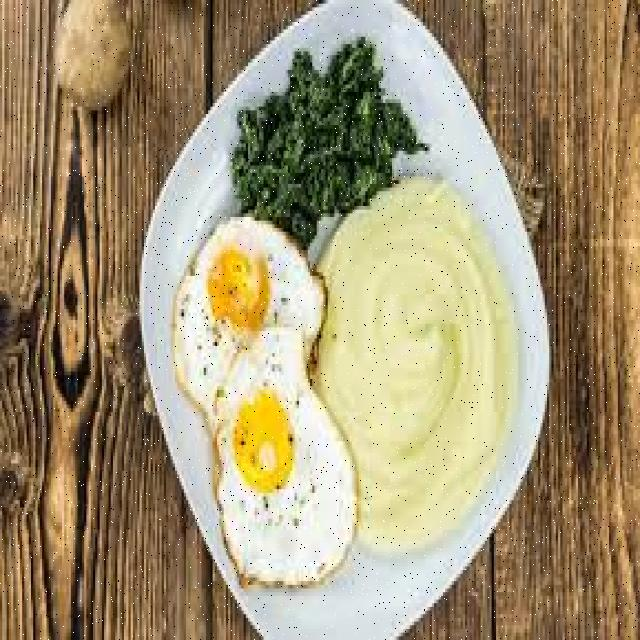Egg: (173, 217, 354, 581)
Green veg: (230, 37, 423, 243)
Potato: (314, 177, 516, 548)
